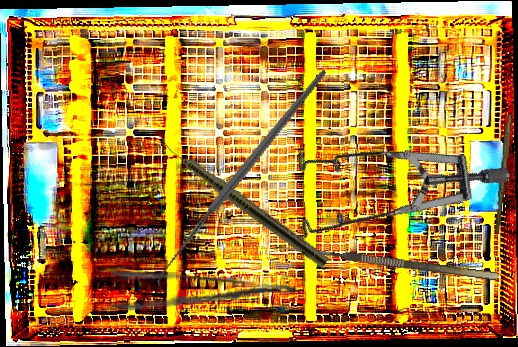Dressing Forceps: (107, 266, 300, 327)
Handpiece: (154, 134, 332, 270)
Hook Surgical: (107, 69, 379, 293), (273, 241, 499, 293)
Scalpel Handle: (493, 113, 513, 235)
Speculum: (265, 80, 514, 311)
